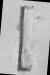M40: (2, 0, 49, 74)
